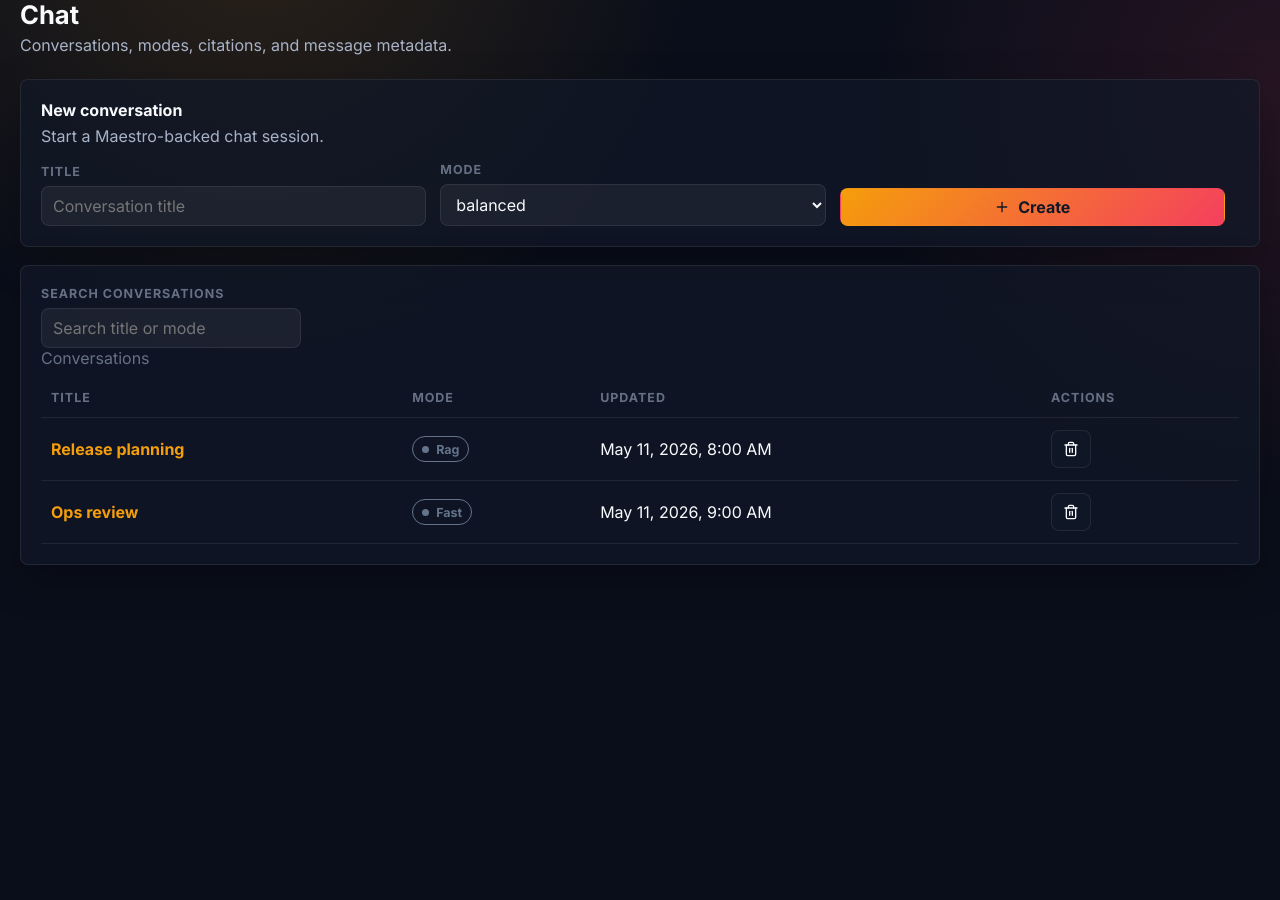
Test: ChatPage › keeps the confirmation open when conversation deletion fails
expect the link "Release planning" is shown: met, box x1=51 y1=439 x2=184 y2=459
Click the button named "delete release planning": (1071,449) x1=1051 y1=430 x2=1091 y2=468
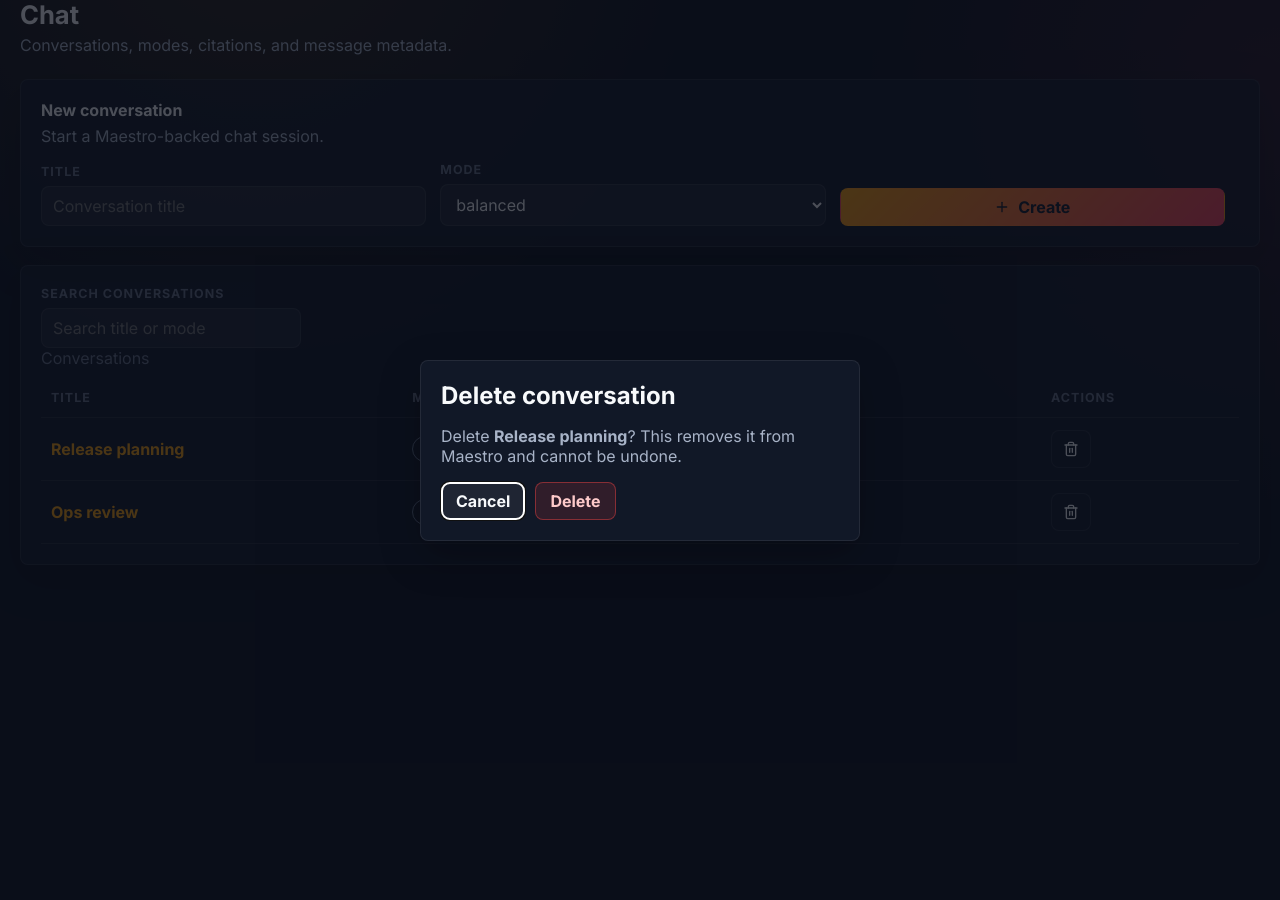
Click the button "Delete": (576,500) x1=535 y1=482 x2=616 y2=520
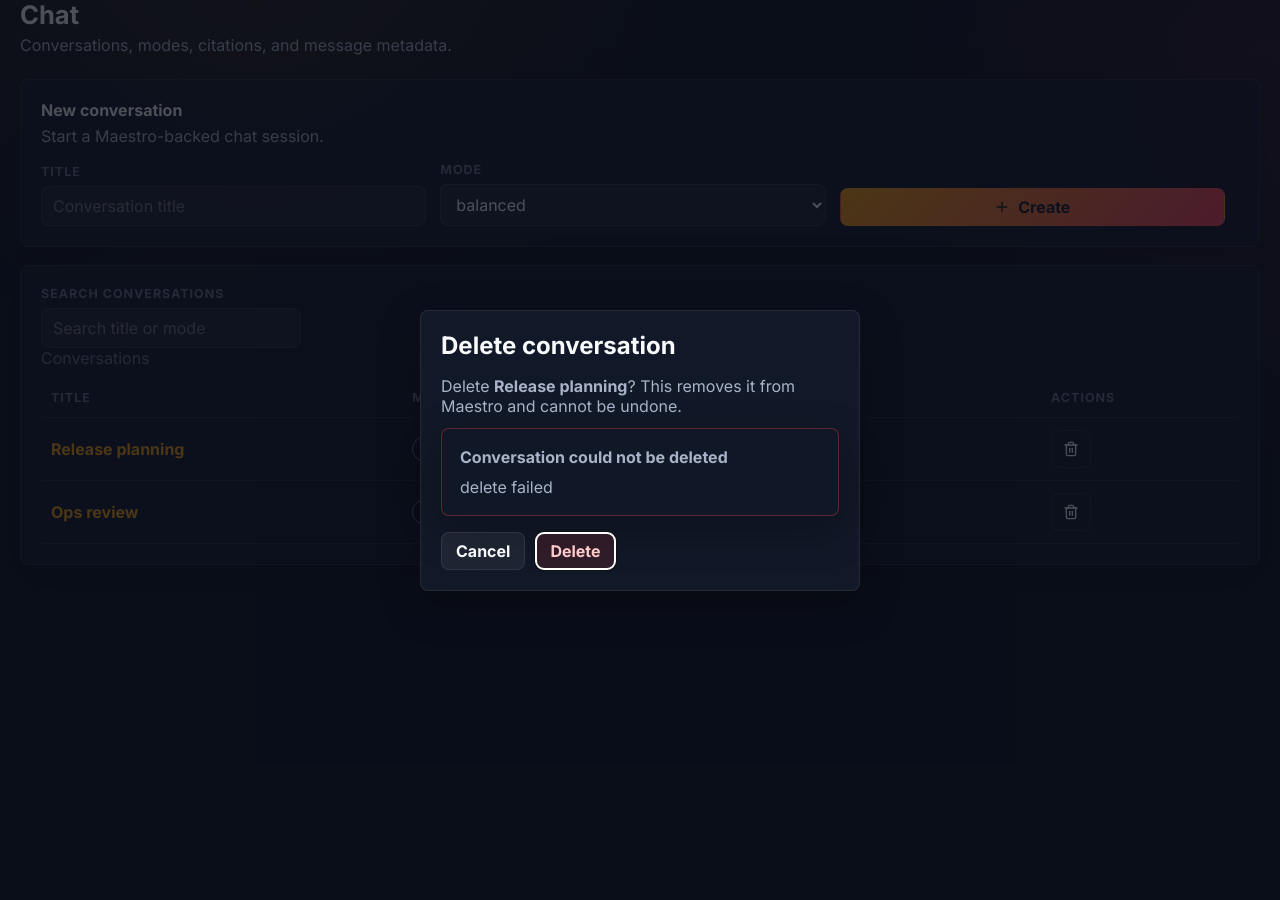
expect the dialog "Delete conversation" is shown: met, box x1=420 y1=310 x2=860 y2=590
expect the heading "Conversation could not be deleted" is shown: met, box x1=460 y1=446 x2=728 y2=466
